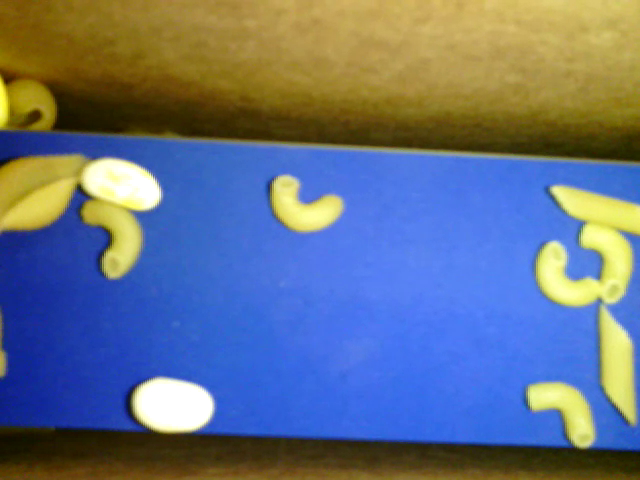elbow: (81, 201, 144, 282), (531, 237, 601, 305), (579, 222, 635, 306), (270, 174, 345, 236), (527, 385, 594, 449)
penne: (594, 304, 635, 427), (550, 185, 638, 237)
shell: (3, 150, 94, 231), (5, 75, 56, 133)
